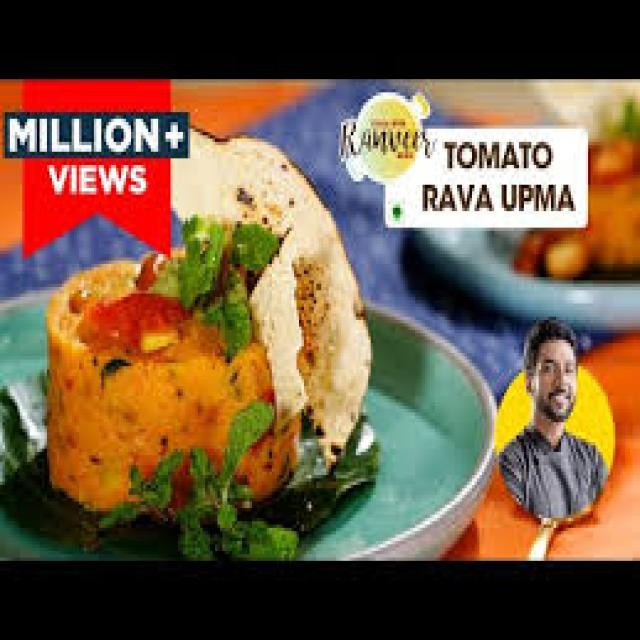UPMA: (47, 132, 368, 518)
